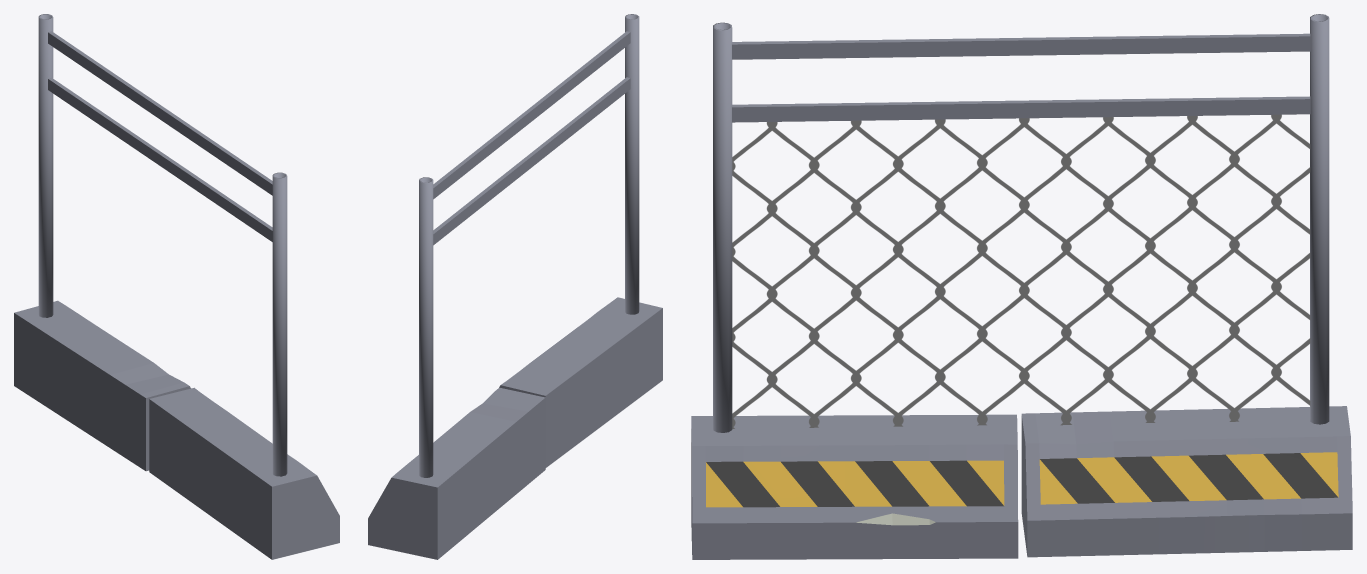
The model's file is barrier_large.033_lev2.glb.
The picture shows the model from 3 angles, left to right: view 1: azimuth 30°, elevation 25°; view 2: azimuth 150°, elevation 25°; view 3: azimuth 270°, elevation 25°; orthographic projection. The views are drawn at different scales.
Parts seen in each view (by area): view 1: barrier_large.033_lev2; view 2: barrier_large.033_lev2; view 3: barrier_large.033_lev2.
Part boxes in pixels (x1=…): barrier_large.033_lev2: x1=14, y1=14, x2=339, y2=559; barrier_large.033_lev2: x1=368, y1=14, x2=662, y2=559; barrier_large.033_lev2: x1=691, y1=14, x2=1352, y2=559.
Size of the model in its own units: 1.34 by 5.67 by 6.78.
5 materials, 1 textured.
